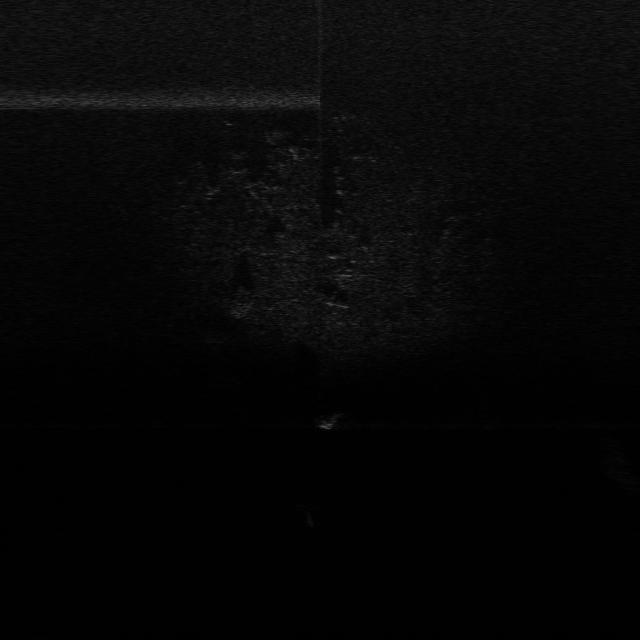cube: (293, 497, 323, 513)
square cage: (314, 409, 346, 431)
